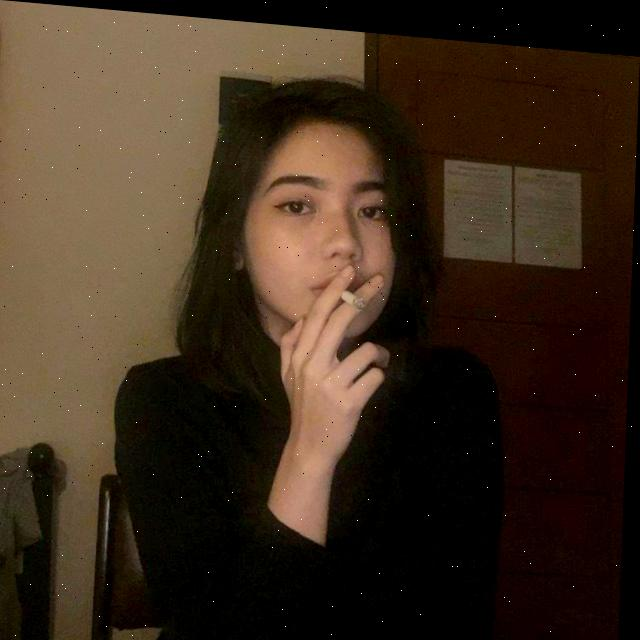cigarette: (342, 283, 368, 305)
